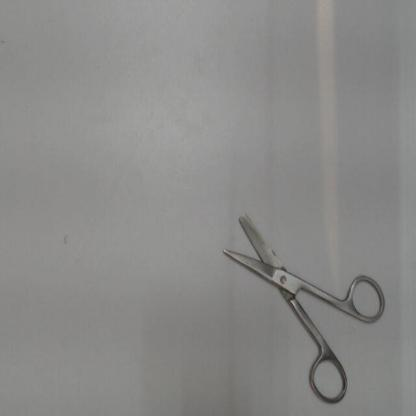Dressing Scissors: (208, 200, 393, 411)
